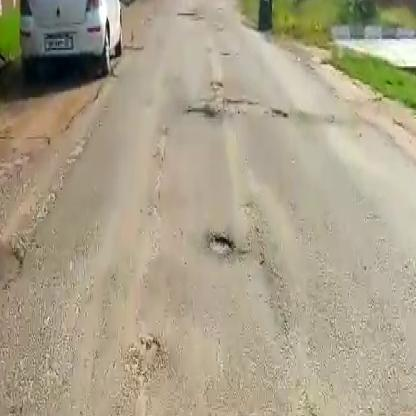pothole: (204, 229, 243, 265)
